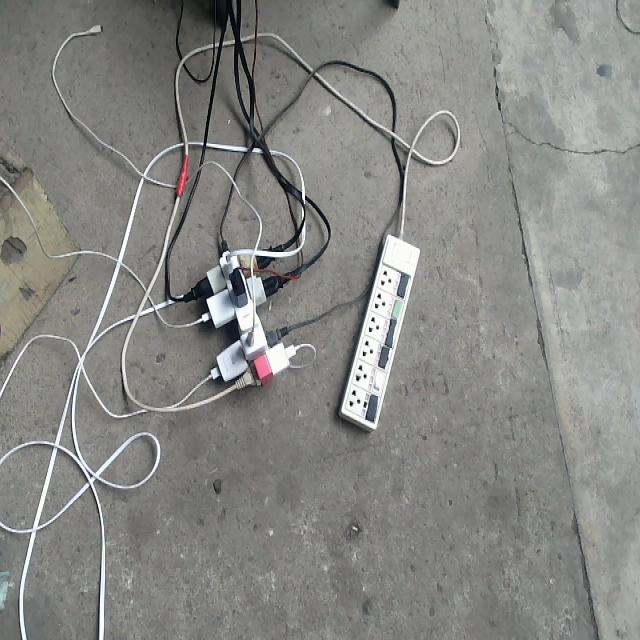-: (171, 240, 298, 392)
